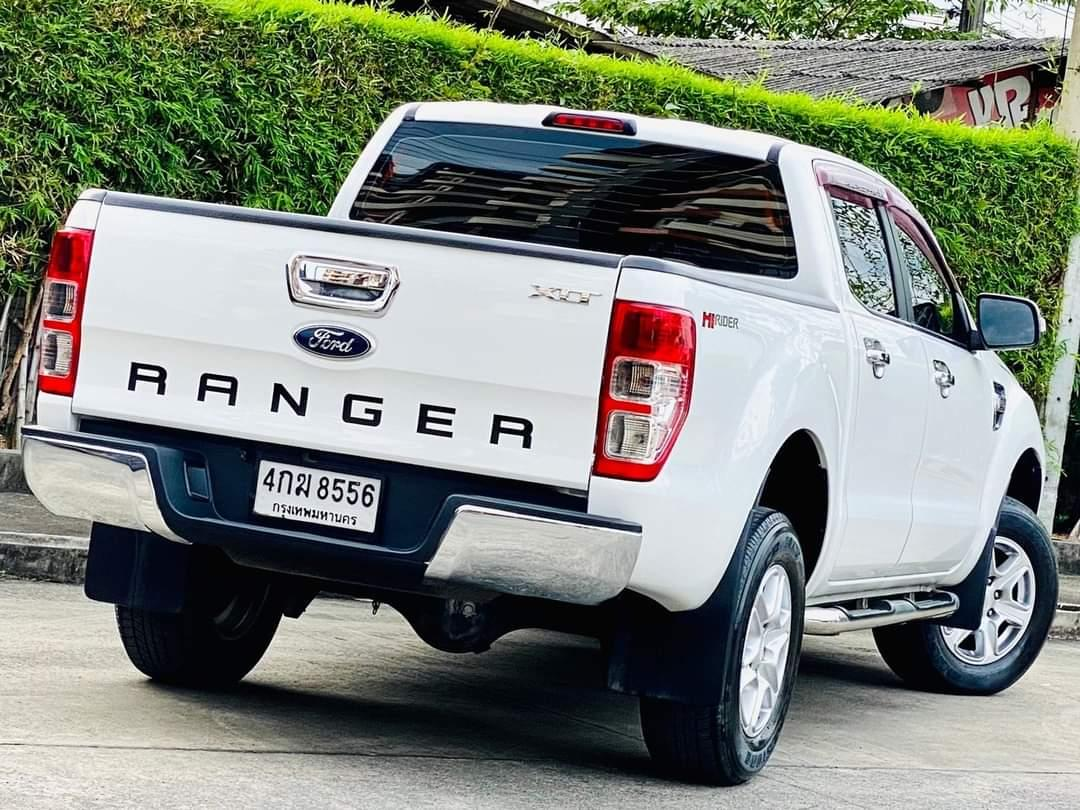license-plate: (245, 455, 386, 542)
